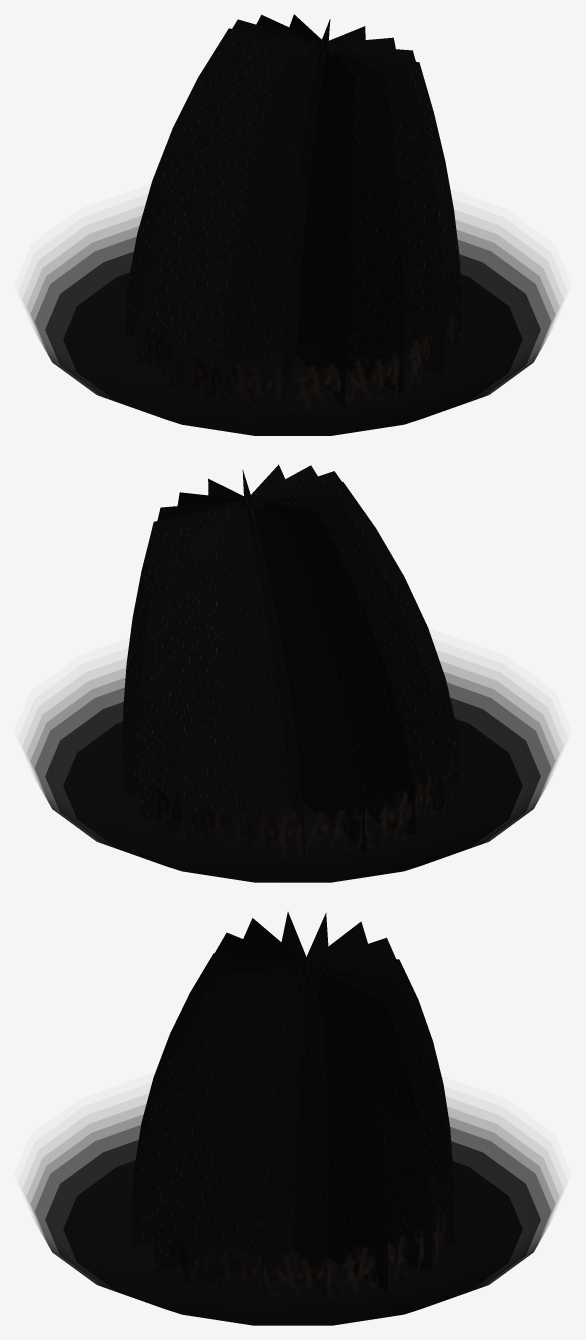
The model's file is sf_player_warrior.glb.
3 views of the same model, one above another, from view 1: azimuth 30°, elevation 25°; view 2: azimuth 150°, elevation 25°; view 3: azimuth 270°, elevation 25° (orthographic).
Visible parts, largest first — view 1: Rain, Background; view 2: Rain, Background; view 3: Rain, Background.
Part boxes in pixels (x1,y1,x2,y2): Rain: [125, 14, 462, 412]; Background: [26, 215, 559, 435]; Rain: [122, 464, 460, 859]; Background: [26, 660, 559, 882]; Rain: [131, 912, 454, 1300]; Background: [26, 1104, 559, 1325].
Size of the model in its own units: 96.62 by 58.66 by 98.12.
Materials: 11 (11 with a texture image).
